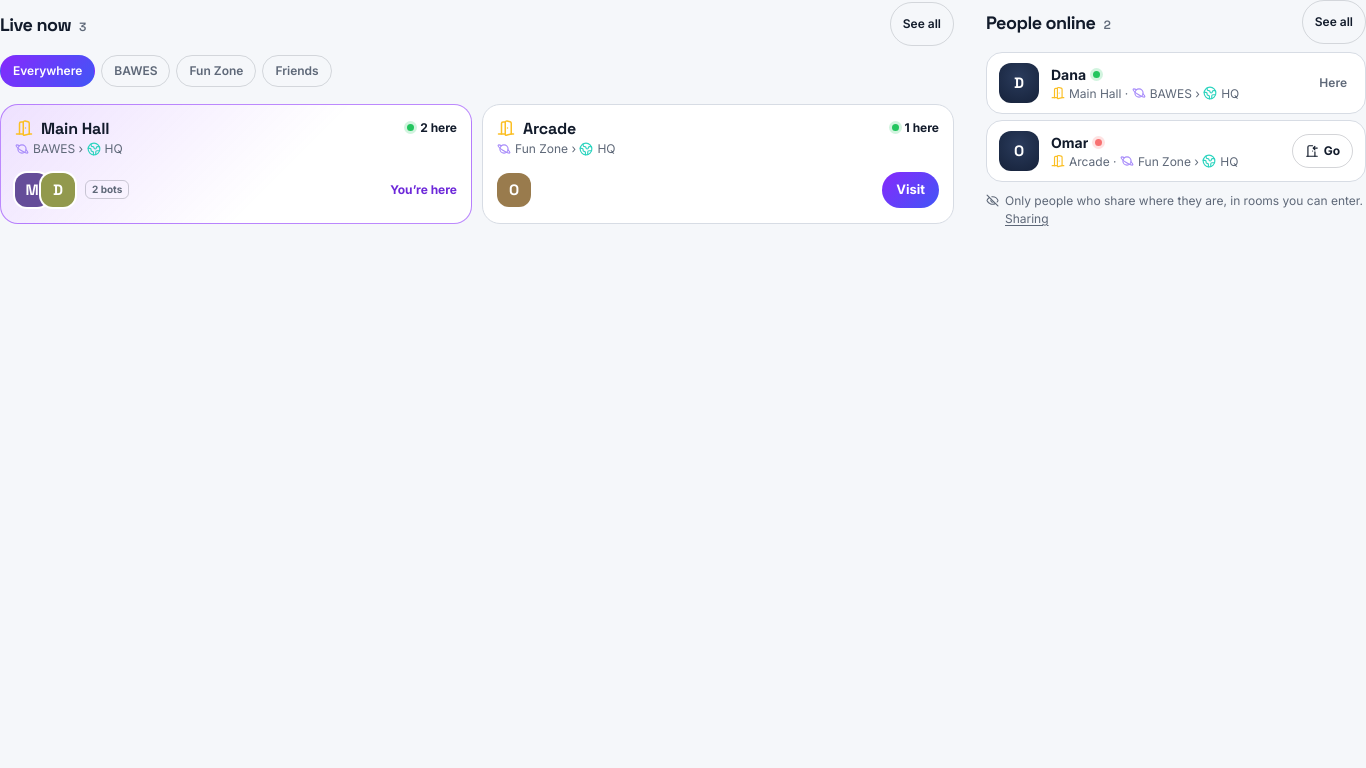
Live now › opens their profile card when a person is tapped, and keeps Go as its own button
This screenshot has width=1366, height=768.
Check: the link with aria-label "Go: Arcade" is shown, box [1292,134,1353,168]
Click the button "O Omar Arcade · Fun Zone › HQ" at (1139, 151), box [999,131,1280,171]
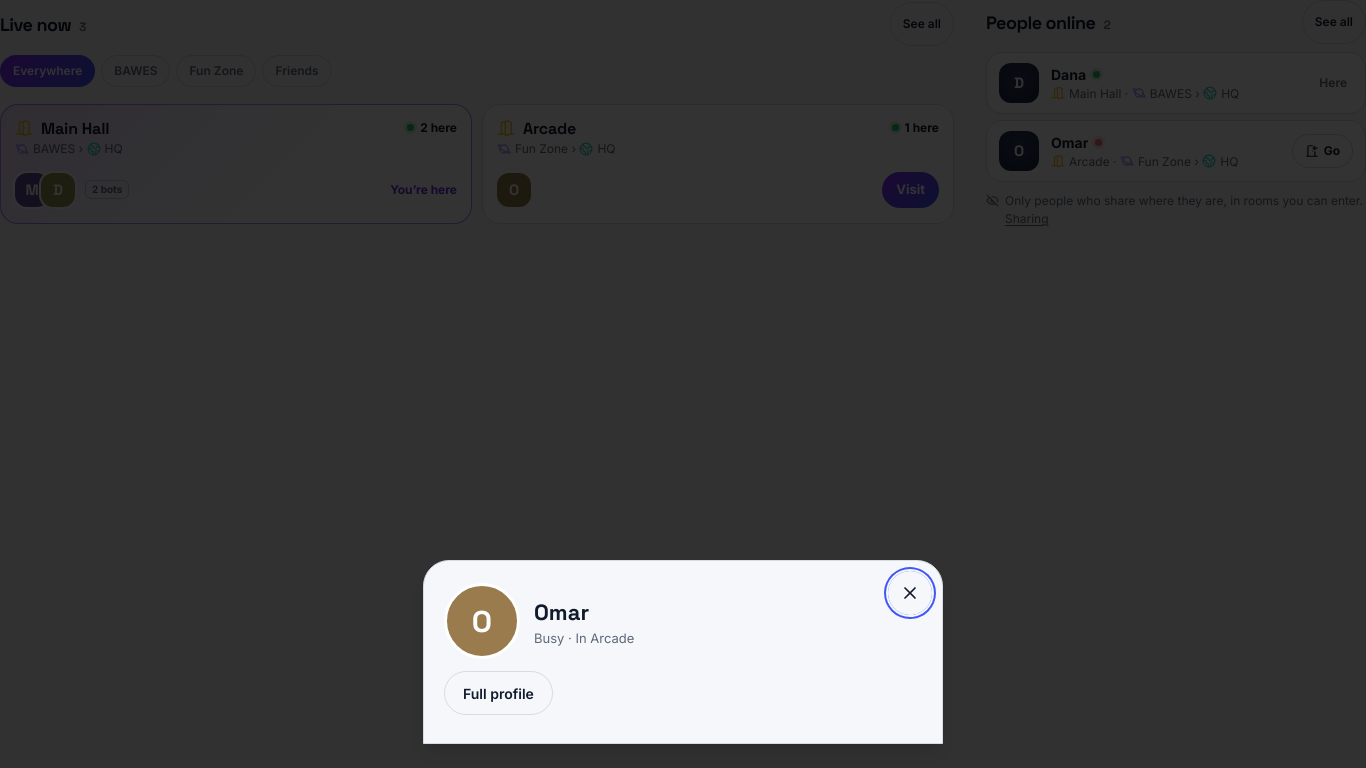
Check: the heading "Omar" is shown, box [534,595,589,629]
Check: the text "Busy · In Arcade" is shown, box [534,629,634,647]
